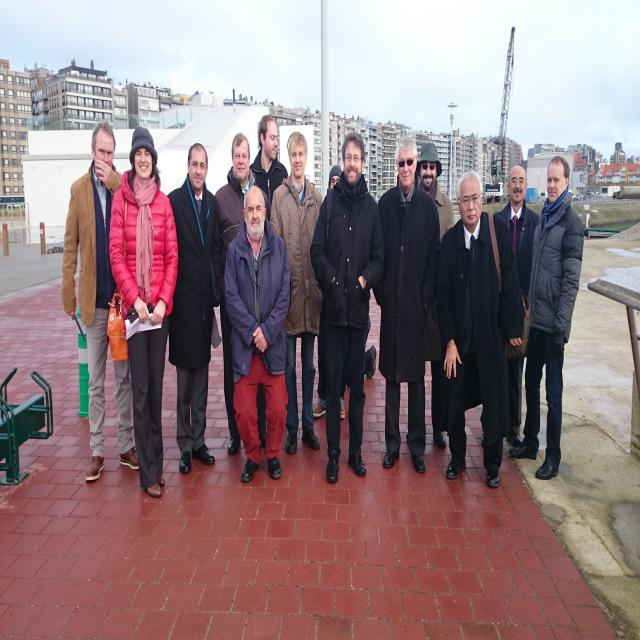body: (59, 118, 145, 484), (435, 167, 526, 489), (309, 130, 386, 484), (107, 124, 179, 500), (506, 152, 584, 482), (369, 135, 443, 478), (222, 182, 292, 486), (166, 142, 222, 476), (213, 131, 270, 458), (270, 133, 324, 456), (405, 142, 455, 448), (492, 163, 540, 448), (311, 165, 343, 417), (246, 113, 290, 222), (365, 340, 377, 381)
